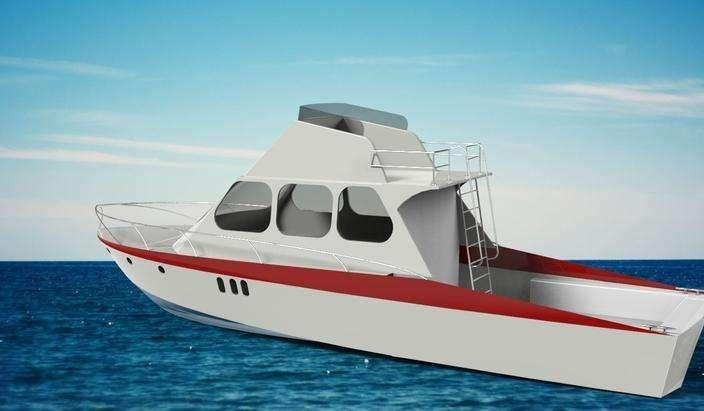yacht: (82, 104, 699, 387)
